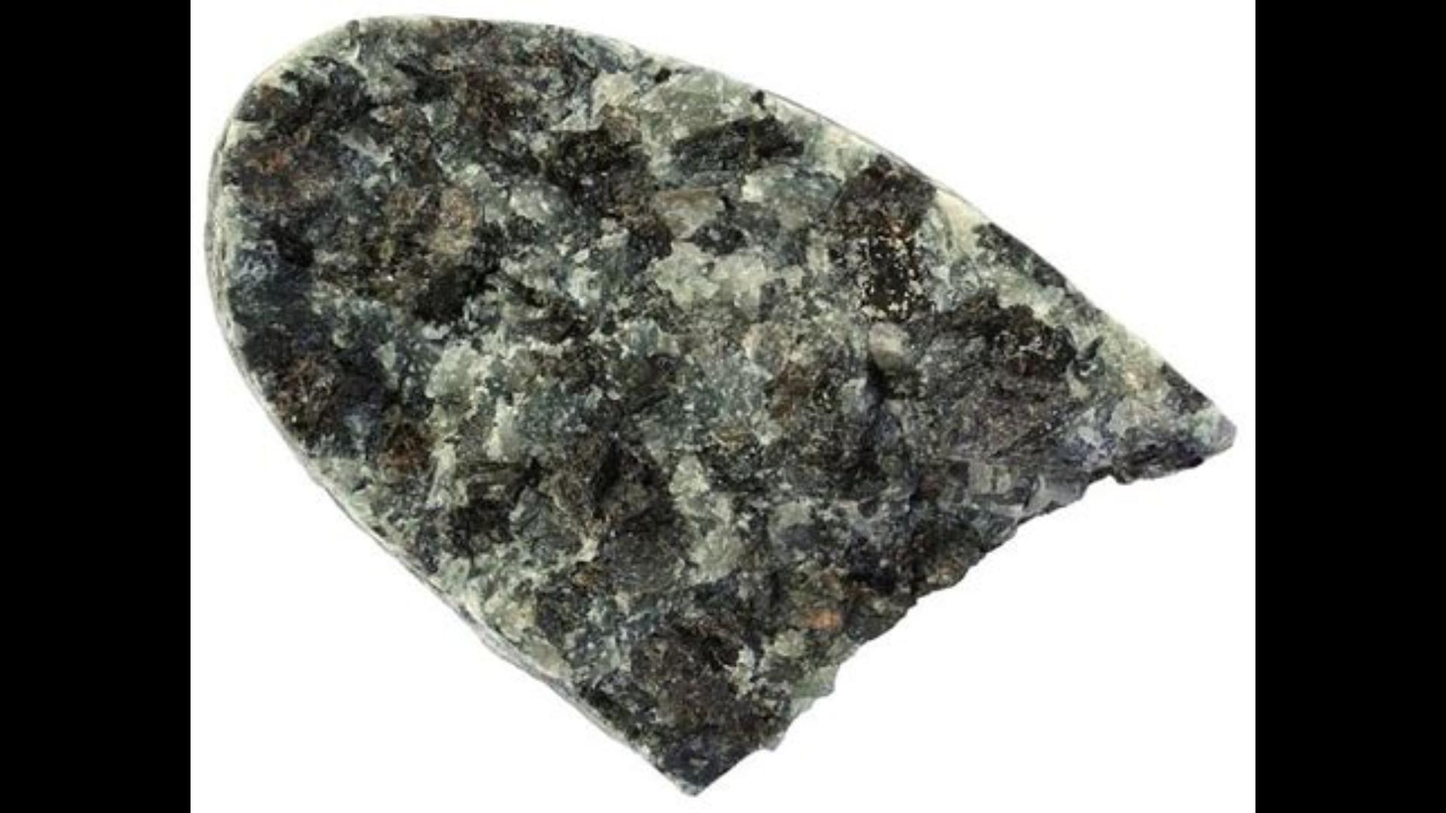rock: (211, 22, 1231, 788)
